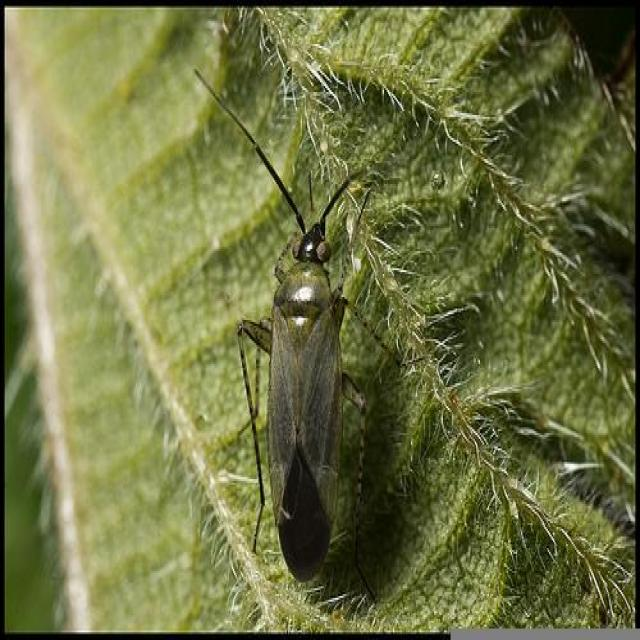Miridae-Adult-: (183, 54, 409, 595)
